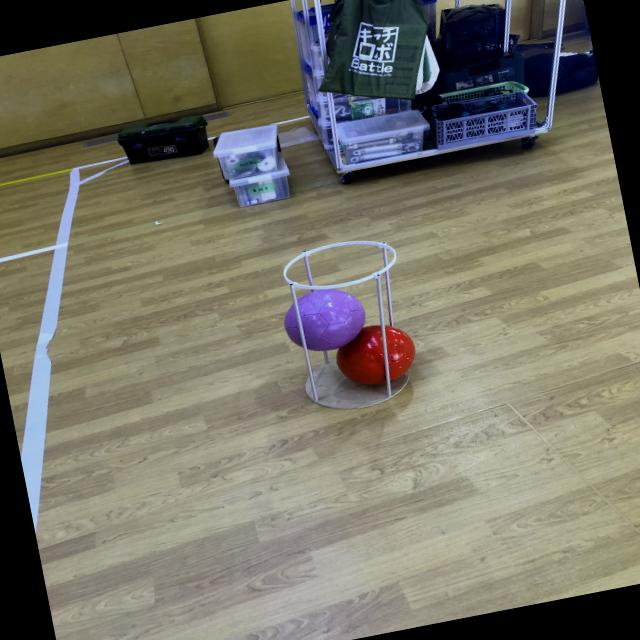purple_ball: (282, 282, 372, 356)
red_ball: (336, 316, 422, 394)
